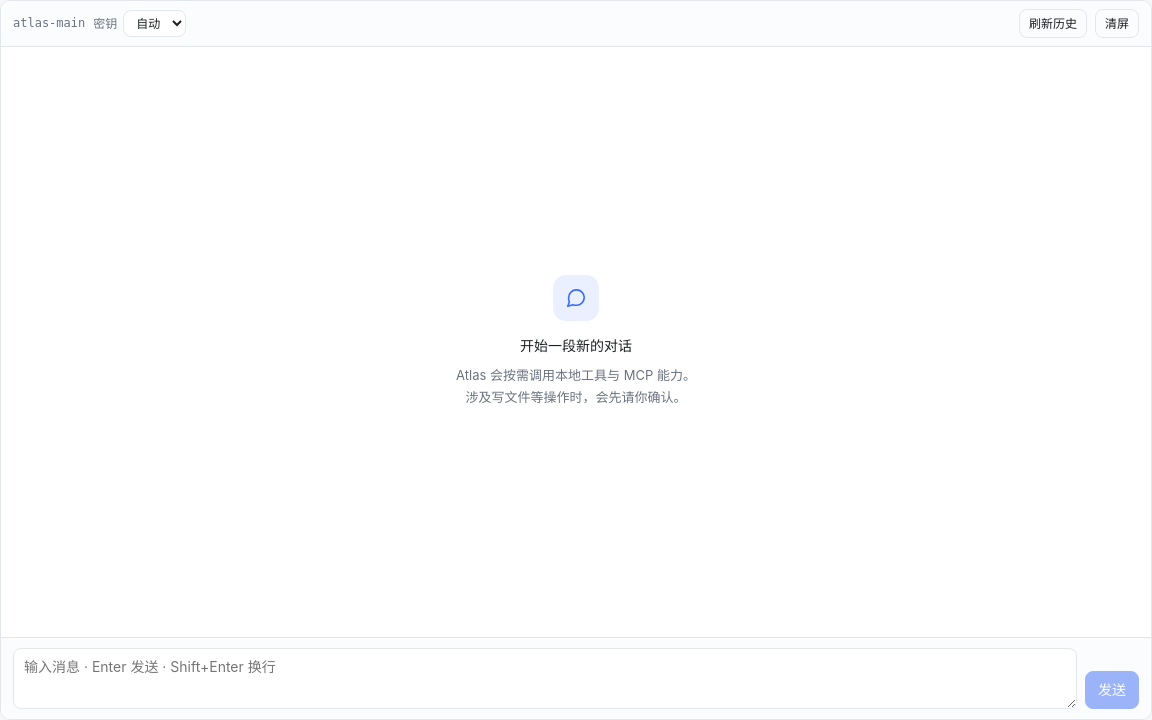
聊天页：中断事件变成审批卡片，工具不会先执行；批准后才继续
Step 1. Type "写个报告" into the text box with placeholder "输入消息 · Enter 发送 · Shift+Enter 换行" → (545, 679), box left=13, top=648, right=1077, bottom=709
Then press Enter
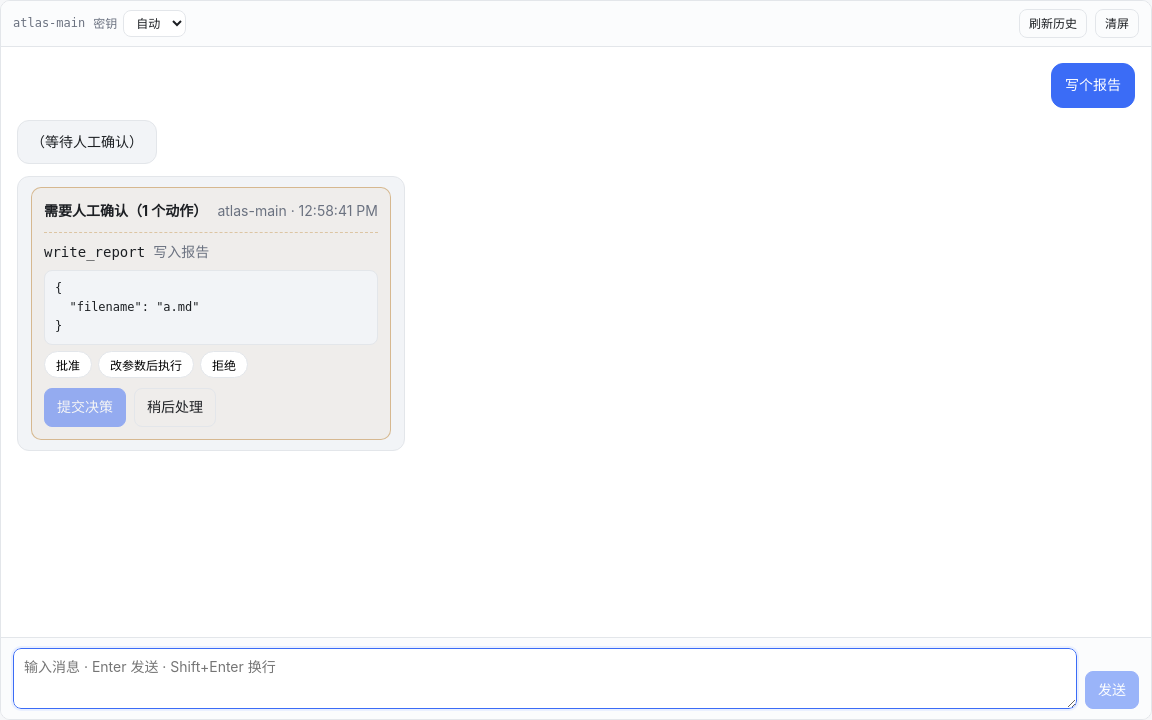
Expected: the text "需要人工确认（1 个动作）" is shown, left=44, top=200, right=207, bottom=222
Step 2. Click the button "批准" → (68, 365), box left=44, top=351, right=92, bottom=378
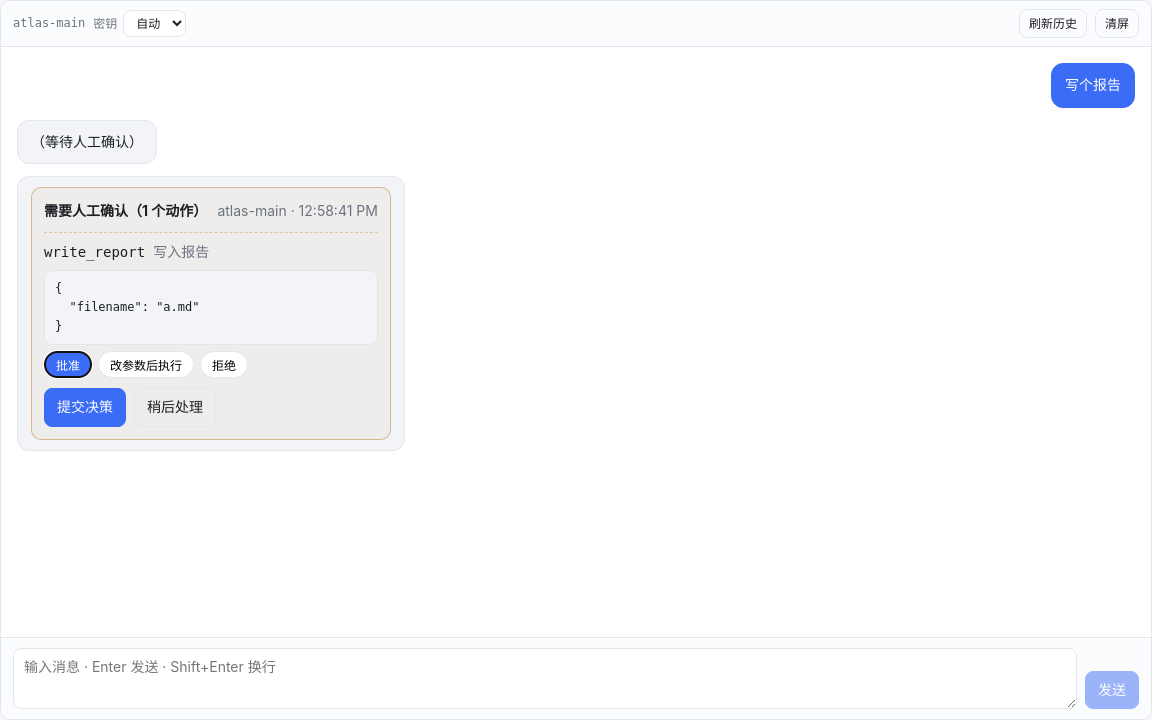
Step 3. Click the button "提交决策" → (85, 408), box left=44, top=388, right=126, bottom=427
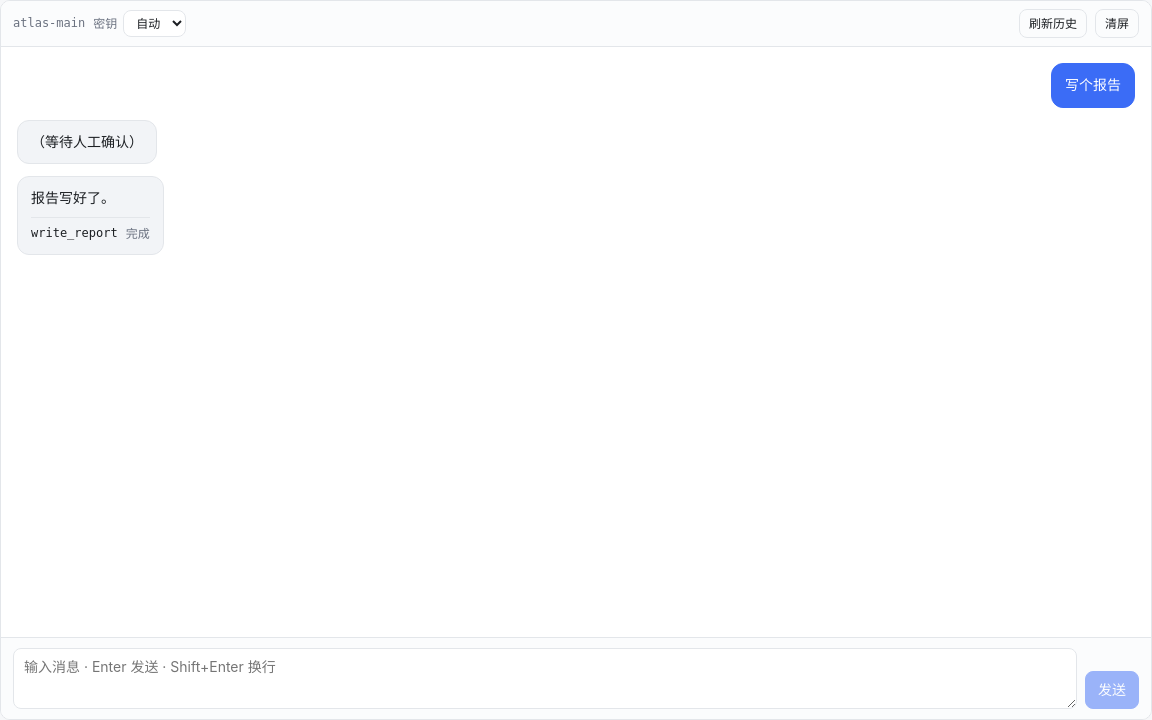
Expected: the text "报告写好了。" is shown, left=31, top=189, right=115, bottom=206
